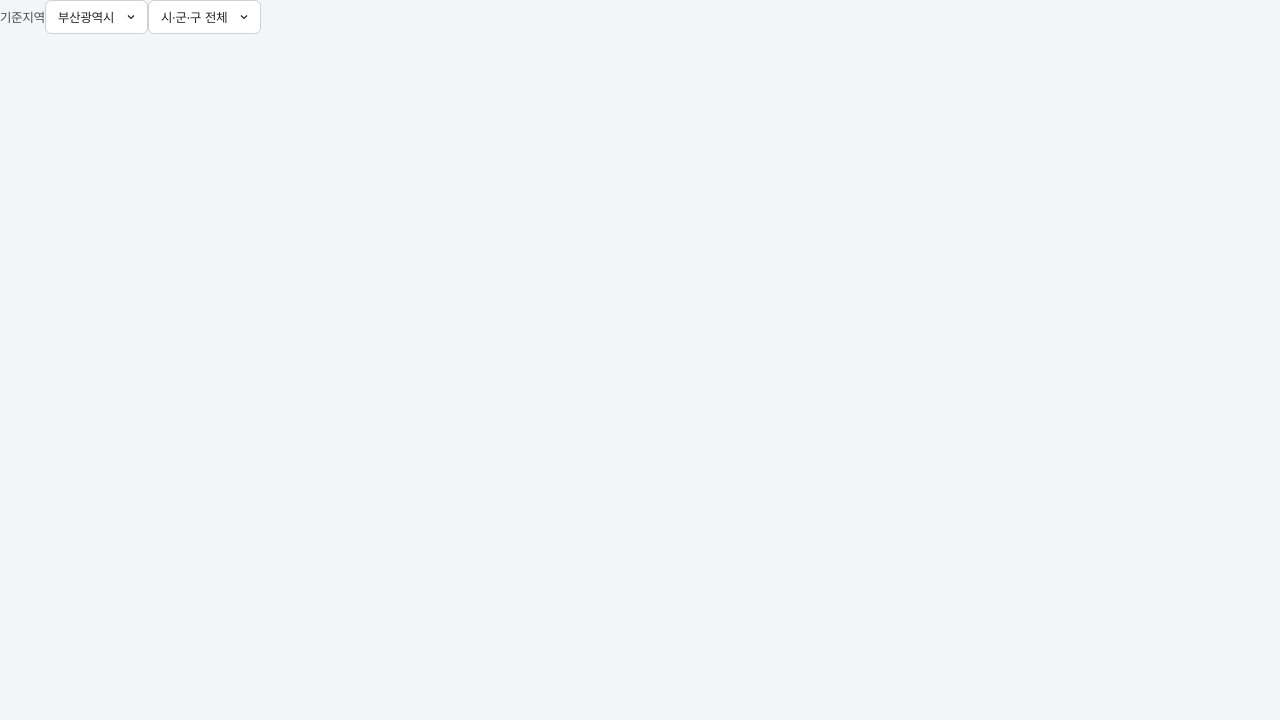
Test case: 기준지역 — 답변 중에도 바꾼다(FUN-UFR-101002 · 전 R60 ⑦ 잠금 대체) › 질문이 없어도 AI 모드가 켜져 있으면 묻는다 — 제목 AI 모드 종료 · 본문 새 대화 한 마디
Select "서울특별시" in the dropdown named "기준지역 시·도" at (96, 17), box [45,0,148,34]
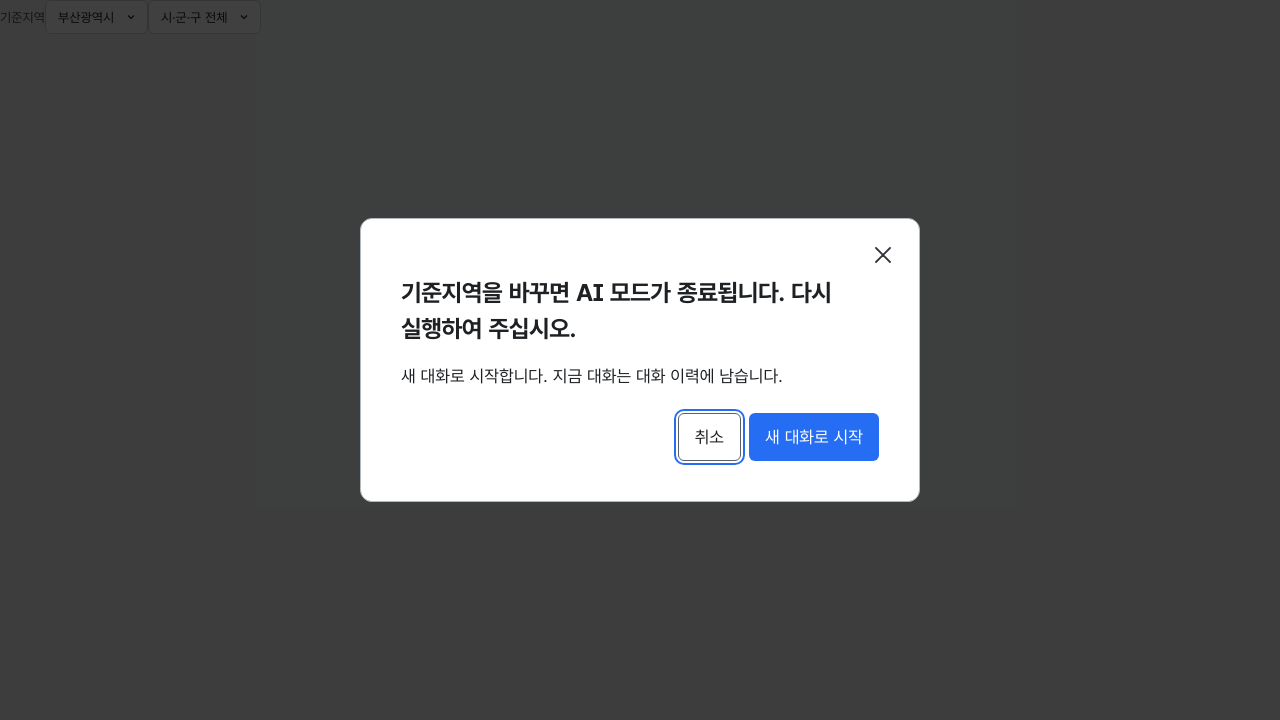
Expected: the text with class "acm-desc" reads "새 대화로 시작합니다. 지금 대화는 대화 이력에 남습니다.", [401,366,783,386]
Click the button "취소" at (709, 437), box [678,413,741,461]
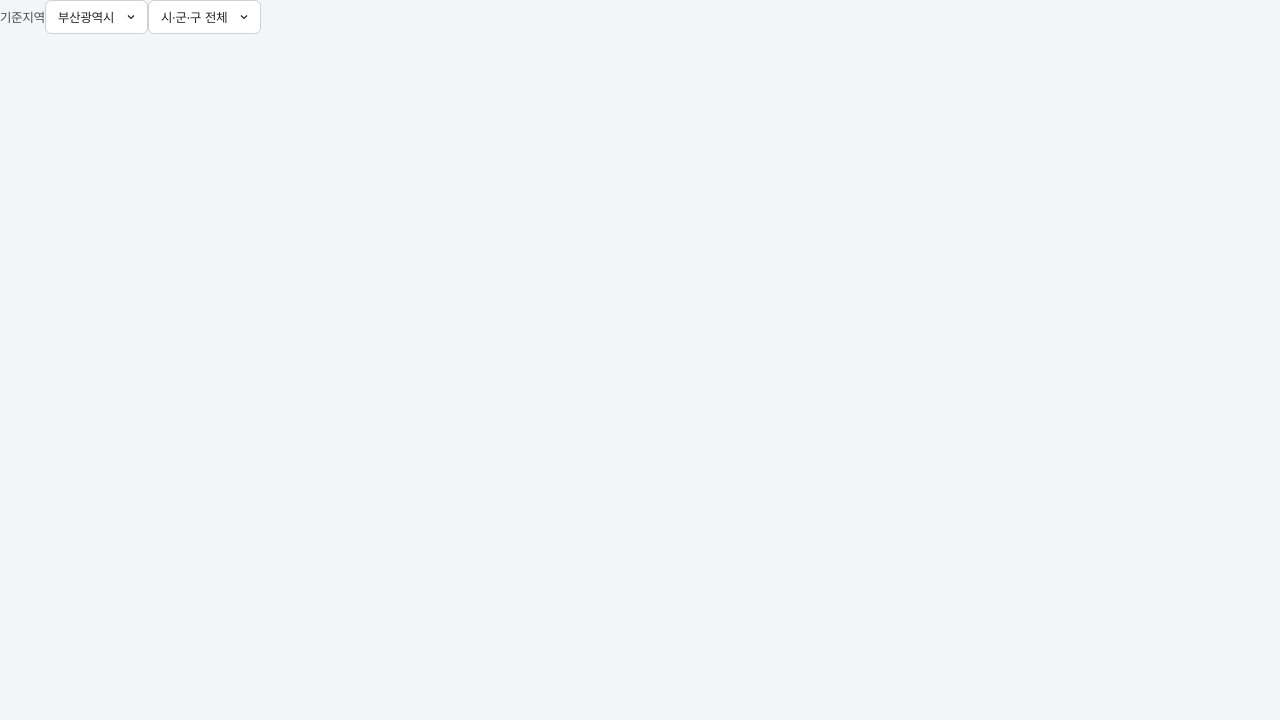
Expected: the dialog is gone
